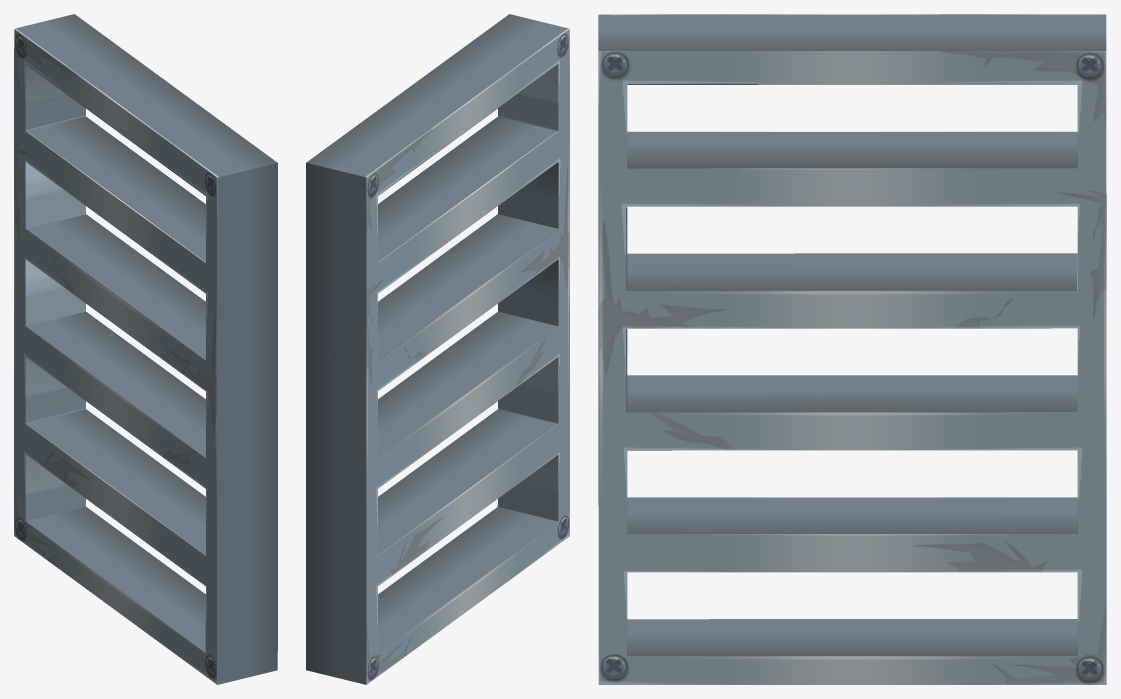
The model's file is Ventilacija1.fbx.
The picture shows the model from 3 angles, left to right: view 1: azimuth 30°, elevation 25°; view 2: azimuth 150°, elevation 25°; view 3: azimuth 270°, elevation 25°; orthographic projection. The views are drawn at different scales.
Visible parts, largest first — view 1: ventilacija_ram; view 2: ventilacija_ram; view 3: ventilacija_ram.
Part boxes in pixels (x1,y1,x2,y2): ventilacija_ram: [14, 14, 277, 684]; ventilacija_ram: [306, 14, 569, 684]; ventilacija_ram: [598, 14, 1106, 684].
Size of the model in its own units: 22.4 by 180 by 131.
Materials: 1 (1 with a texture image).
